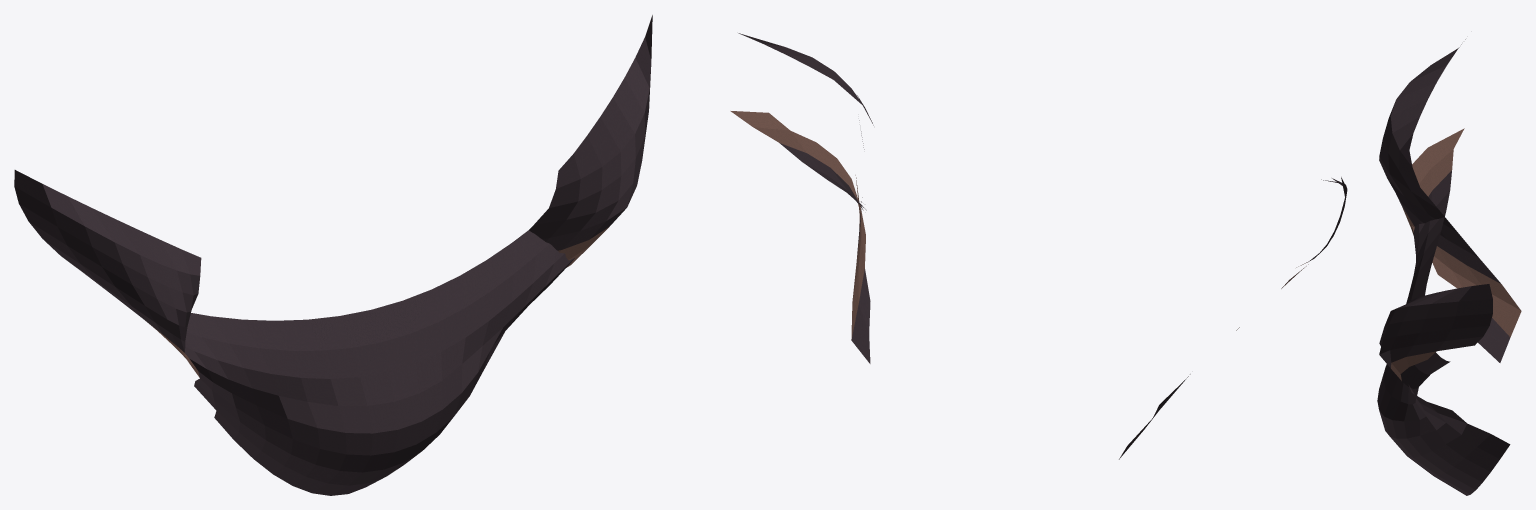
File: facial_pointed_default.gltf
The picture shows the model from 3 angles, left to right: view 1: azimuth 30°, elevation 25°; view 2: azimuth 150°, elevation 25°; view 3: azimuth 270°, elevation 25°; orthographic projection. The views are drawn at different scales.
Visible parts, largest first — view 1: Pointed Beard default; view 2: Pointed Beard default; view 3: Pointed Beard default.
Boxes of the visible parts, <box> form: Pointed Beard default: <box>14,15,652,495</box>; Pointed Beard default: <box>730,33,1347,459</box>; Pointed Beard default: <box>1377,39,1521,495</box>.
Size of the model in its own units: 0.348 by 0.204 by 0.0786.
Materials: 2 (2 with a texture image).
